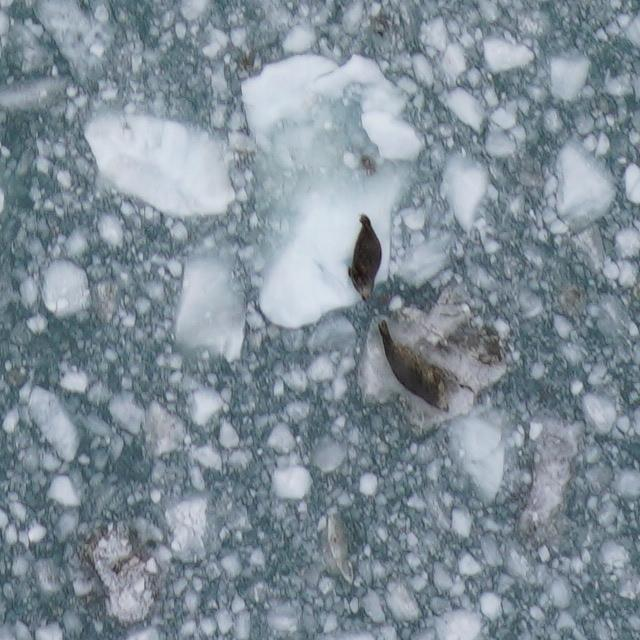seal: (375, 317, 454, 418), (344, 209, 385, 307)
